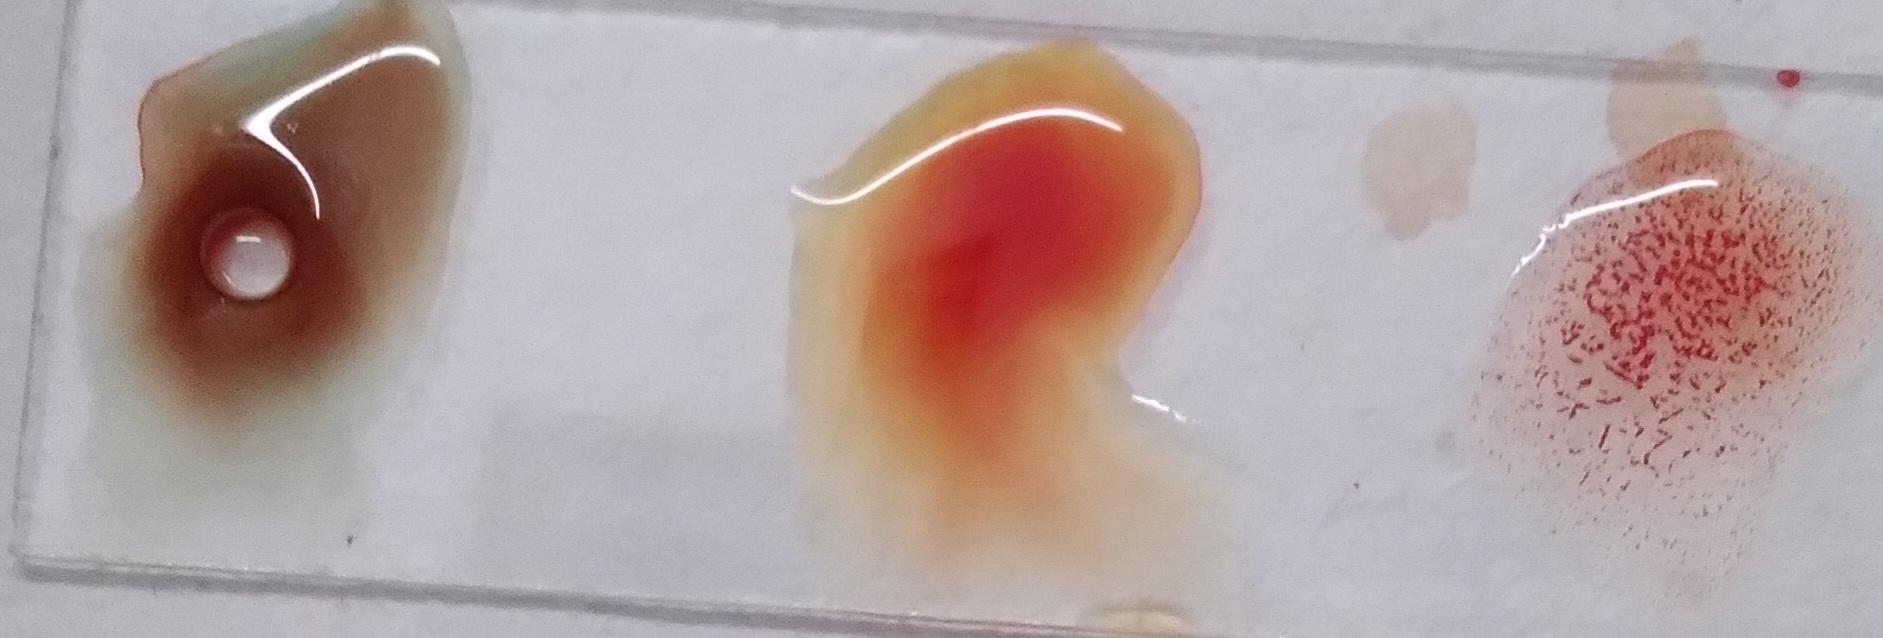D: (41, 81, 394, 506)
